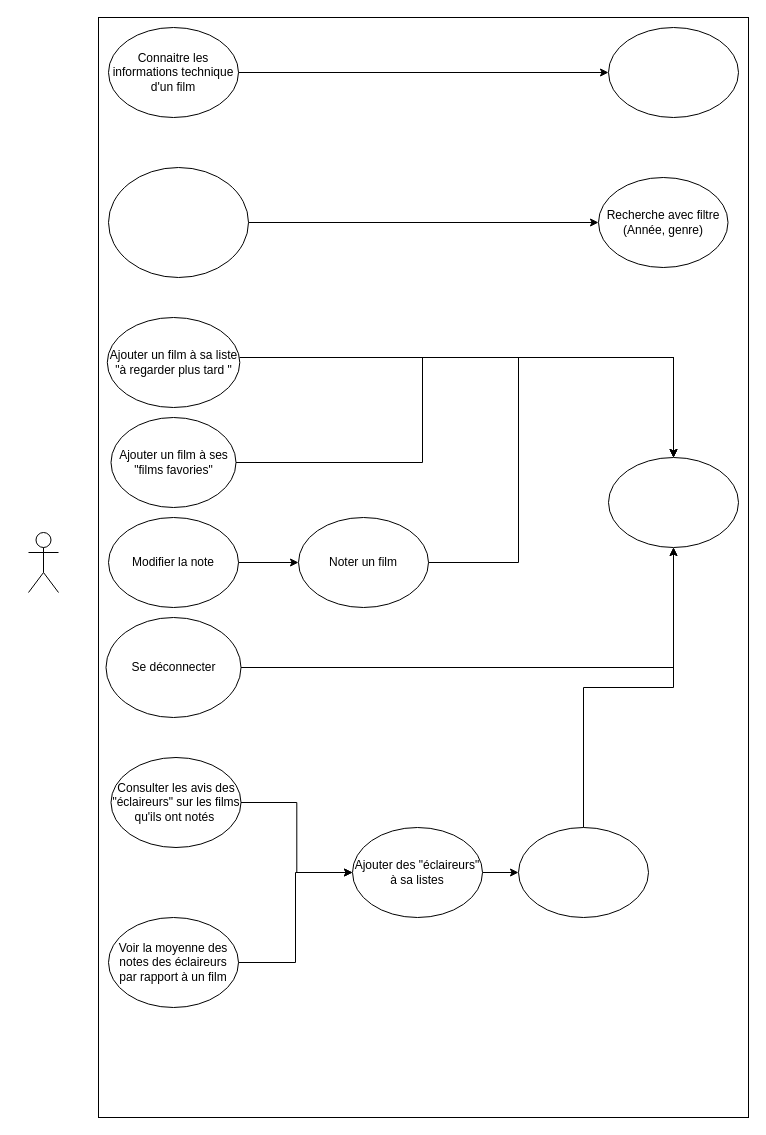
Some shapes in this 766 by 1135 pixel diagram are drawn without their labels. The centre of each missing label's shape, as x and y in pixels:
"Obtenir une liste de film" goes at pixel 178 222.
"Rechercher d'autres utilisateurs" goes at pixel 583 872.
"Rechercher un film" goes at pixel 673 72.
"Se connecter / s'inscrire" goes at pixel 673 502.
"Utilisateur" goes at pixel 43 562.
